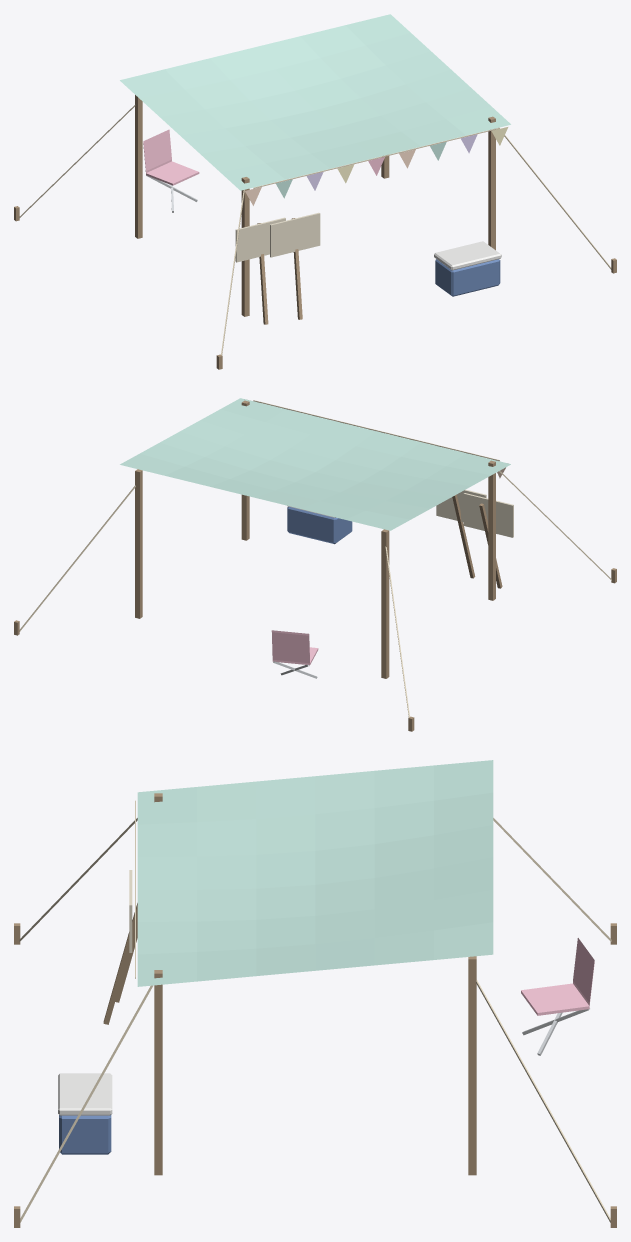
Rendered from rally_camp.glb.
3 renders of one model, top to bottom at view 1: azimuth 30°, elevation 25°; view 2: azimuth 150°, elevation 25°; view 3: azimuth 270°, elevation 25°, orthographic. The views are drawn at different scales.
Parts seen in each view (by area): view 1: rc_camp_mesh; view 2: rc_camp_mesh; view 3: rc_camp_mesh.
Part boxes in pixels (x1=…): rc_camp_mesh: x1=14, y1=14, x2=616, y2=369; rc_camp_mesh: x1=14, y1=398, x2=616, y2=731; rc_camp_mesh: x1=14, y1=760, x2=616, y2=1227.
Size of the model in its own units: 6.46 by 2.41 by 5.76.
